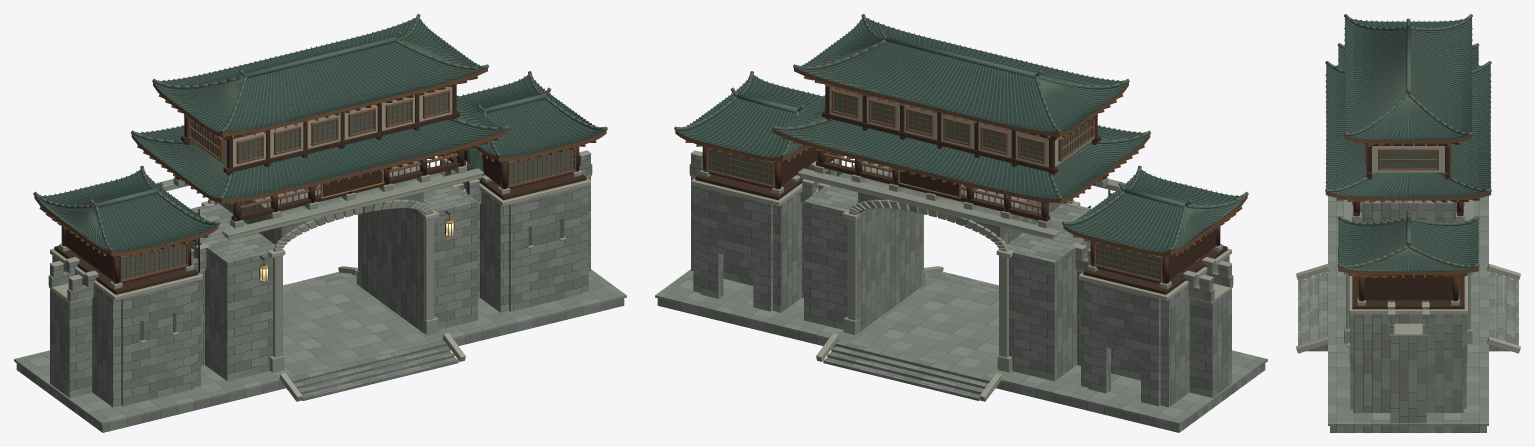
File: sect_gate.glb
3 views of the same model, side by side, from view 1: azimuth 30°, elevation 25°; view 2: azimuth 150°, elevation 25°; view 3: azimuth 270°, elevation 25° (orthographic). The views are drawn at different scales.
Visible parts, largest first — view 1: Gate_Ashlar, Gate_JadeTile, Gate_TileEdge, Gate_Paving, Gate_CarvedWood, Gate_Timber, Gate_ArchStone, Gate_Window, Gate_Coping, Gate_Plaster; view 2: Gate_Ashlar, Gate_JadeTile, Gate_TileEdge, Gate_Paving, Gate_CarvedWood, Gate_Timber, Gate_ArchStone, Gate_Window, Gate_Coping, Gate_Plaster; view 3: Gate_TileEdge, Gate_JadeTile, Gate_Ashlar, Gate_Paving, Gate_Timber, Gate_CarvedWood, Gate_Coping, Gate_ArchStone, Gate_Window, Gate_Plaster.
Part boxes in pixels (box(x1,y1,x2,y2)): Gate_Ashlar: box(16, 154, 624, 432); Gate_JadeTile: box(38, 18, 605, 252); Gate_TileEdge: box(33, 14, 607, 251); Gate_Paving: box(14, 269, 626, 425); Gate_CarvedWood: box(34, 68, 606, 282); Gate_Timber: box(54, 84, 586, 294); Gate_ArchStone: box(59, 153, 581, 372); Gate_Window: box(122, 93, 573, 340); Gate_Coping: box(49, 150, 591, 401); Gate_Plaster: box(187, 87, 452, 167); Gate_Ashlar: box(657, 154, 1265, 432); Gate_JadeTile: box(676, 18, 1243, 252); Gate_TileEdge: box(674, 14, 1248, 251); Gate_Paving: box(655, 269, 1267, 425); Gate_CarvedWood: box(675, 68, 1247, 282); Gate_Timber: box(695, 84, 1227, 294); Gate_ArchStone: box(700, 165, 1222, 372); Gate_Window: box(708, 93, 1159, 279); Gate_Coping: box(690, 150, 1232, 401); Gate_Plaster: box(829, 87, 1094, 167); Gate_TileEdge: box(1325, 14, 1491, 271); Gate_JadeTile: box(1326, 18, 1490, 271); Gate_Ashlar: box(1298, 200, 1518, 432); Gate_Paving: box(1328, 196, 1488, 425); Gate_Timber: box(1338, 143, 1464, 309); Gate_CarvedWood: box(1325, 27, 1491, 298); Gate_Coping: box(1296, 264, 1520, 353); Gate_ArchStone: box(1343, 199, 1473, 346); Gate_Window: box(1350, 151, 1437, 344); Gate_Plaster: box(1372, 146, 1444, 172).
Size of the model in its own units: 31 by 16.23 by 12.56.
15 materials, 10 textured.
